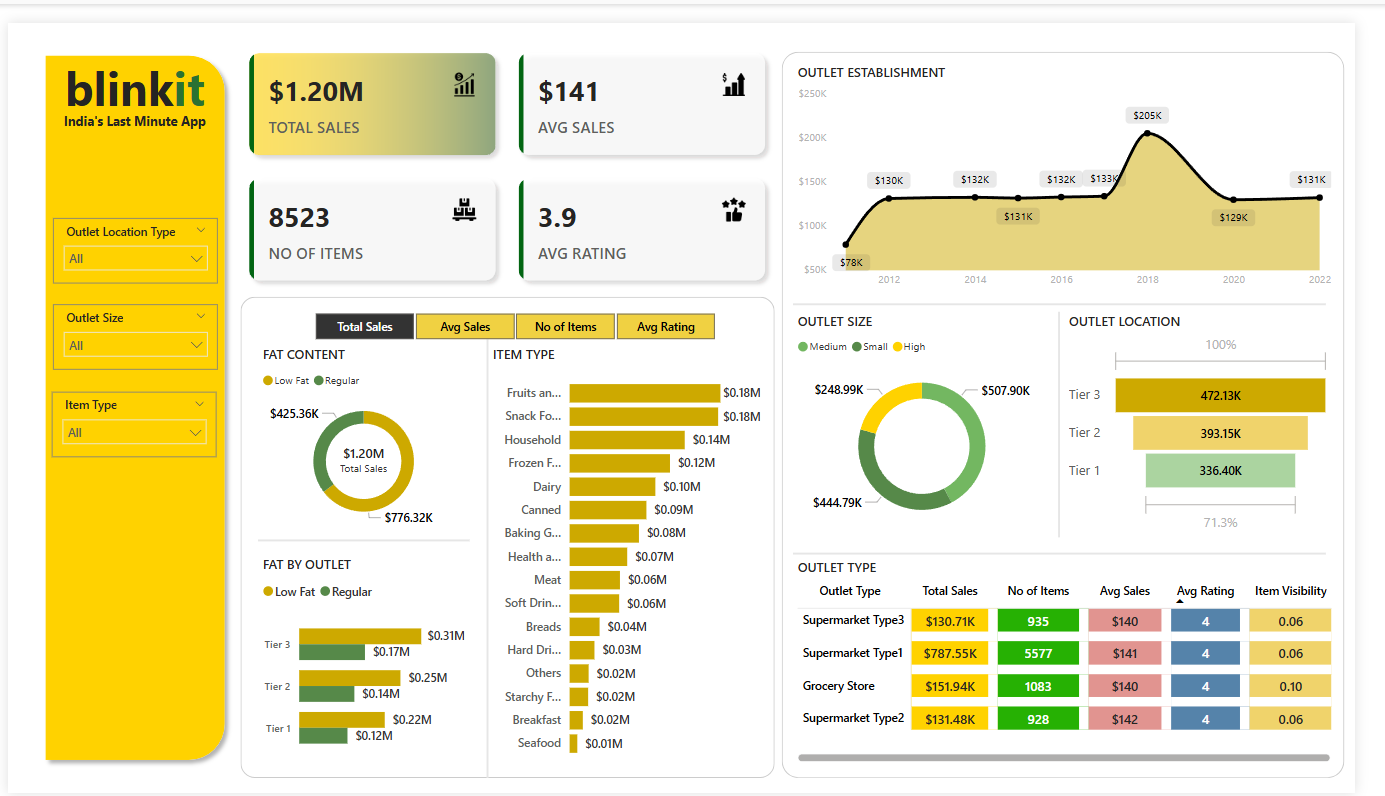

This screenshot's page, from the dashboard's own definition file:
{"tool":"powerbi","page":{"name":"Page 1","canvas":[1400,800],"ordinal":0},"visuals":[{"type":"shape","box":[30,24.3,204.3,750],"z":0},{"type":"textbox","box":[47.1,30,170,75.7],"z":1000},{"type":"cardVisual","fields":{"Data":["BlinkIT Grocery Data.Total Sales","BlinkIT Grocery Data.Avg Sales","BlinkIT Grocery Data.No of Items","BlinkIT Grocery Data.Avg Rating"]},"box":[234.3,14.3,570,270],"z":2000},{"type":"textbox","box":[47.1,88.6,170,34.3],"z":3000},{"type":"shape","box":[241.3,284.2,555,500],"z":4000},{"type":"donutChart","title":"FAT CONTENT","fields":{"Y":["BlinkIT Grocery Data.Total Sales"],"Category":["BlinkIT Grocery Data.Item Fat Content"]},"box":[260.1,335.1,219.8,195.7],"z":5000},{"type":"slicer","fields":{"Values":["Metrics.Metrics"]},"box":[293.6,294.9,465.1,40.2],"z":6000},{"type":"cardVisual","fields":{"Data":["BlinkIT Grocery Data.Total Sales"]},"box":[319,420.9,100.5,61.7],"z":7000},{"type":"clusteredBarChart","title":"FAT BY OUTLET","fields":{"Y":["BlinkIT Grocery Data.Total Sales"],"Category":["BlinkIT Grocery Data.Outlet Location Type"],"Series":["BlinkIT Grocery Data.Item Fat Content"]},"box":[260.1,553.6,219.8,219.8],"z":8000},{"type":"shape","box":[260.1,520.1,219.8,36.2],"z":9000},{"type":"shape","box":[451.7,328.4,92.5,455.8],"z":10000},{"type":"barChart","title":"ITEM TYPE","fields":{"Y":["BlinkIT Grocery Data.Total Sales"],"Category":["BlinkIT Grocery Data.Item Type"]},"box":[498.7,335.1,288.2,438.3],"z":11000},{"type":"shape","box":[804.3,29.5,584.5,754.7],"z":12000},{"type":"lineChart","title":"OUTLET ESTABLISHMENT","fields":{"Category":["BlinkIT Grocery Data.Outlet Establishment Year"],"Y":["BlinkIT Grocery Data.Total Sales"]},"box":[815,41.6,564.3,242.6],"z":13000},{"type":"shape","box":[815,270.8,553.6,44.2],"z":14000},{"type":"donutChart","title":"OUTLET SIZE","fields":{"Y":["BlinkIT Grocery Data.Total Sales"],"Category":["BlinkIT Grocery Data.Outlet Size"]},"box":[815,300.3,268.1,234.6],"z":15000},{"type":"shape","box":[1057.6,300.3,69.7,234.6],"z":16000},{"type":"funnel","title":"OUTLET LOCATION","fields":{"Y":["Sum(BlinkIT Grocery Data.Sales)"],"Category":["BlinkIT Grocery Data.Outlet Location Type"]},"box":[1097.9,300.3,281.5,234.6],"z":17000},{"type":"shape","box":[815,530.8,553.6,40.2],"z":18000},{"type":"pivotTable","title":"OUTLET TYPE","fields":{"Rows":["BlinkIT Grocery Data.Outlet Type"],"Values":["BlinkIT Grocery Data.Total Sales","BlinkIT Grocery Data.No of Items","BlinkIT Grocery Data.Avg Sales","BlinkIT Grocery Data.Avg Rating","Avg(BlinkIT Grocery Data.Item Visibility)"]},"box":[815,556.3,564.3,217.2],"z":19000},{"type":"slicer","fields":{"Values":["BlinkIT Grocery Data.Outlet Location Type"]},"box":[46.9,202.4,171.6,68.4],"z":20000},{"type":"slicer","fields":{"Values":["BlinkIT Grocery Data.Outlet Size"]},"box":[46.9,292.2,171.6,68.4],"z":21000},{"type":"slicer","fields":{"Values":["BlinkIT Grocery Data.Item Type"]},"box":[45.6,383.4,171.6,68.4],"z":22000}]}

Visuals, with their boxes in screenshot pixels (x1, y1, x2, y2), scaled from the page's 1400x800 canvas onto the 1385x796 screenshot:
shape: (30,24,232,770)
textbox: (47,30,215,105)
cardVisual - BlinkIT Grocery Data.Total Sales x BlinkIT Grocery Data.Avg Sales: (232,14,796,283)
textbox: (47,88,215,122)
shape: (239,283,788,780)
"FAT CONTENT" donutChart: (257,333,475,528)
slicer - Metrics.Metrics: (290,293,751,333)
cardVisual - BlinkIT Grocery Data.Total Sales: (316,419,415,480)
"FAT BY OUTLET" clusteredBarChart: (257,551,475,770)
shape: (257,517,475,554)
shape: (447,327,538,780)
"ITEM TYPE" barChart: (493,333,778,770)
shape: (796,29,1374,780)
"OUTLET ESTABLISHMENT" lineChart: (806,41,1365,283)
shape: (806,269,1354,313)
"OUTLET SIZE" donutChart: (806,299,1071,532)
shape: (1046,299,1115,532)
"OUTLET LOCATION" funnel: (1086,299,1365,532)
shape: (806,528,1354,568)
"OUTLET TYPE" pivotTable: (806,554,1365,770)
slicer - BlinkIT Grocery Data.Outlet Location Type: (46,201,216,269)
slicer - BlinkIT Grocery Data.Outlet Size: (46,291,216,359)
slicer - BlinkIT Grocery Data.Item Type: (45,381,215,450)
